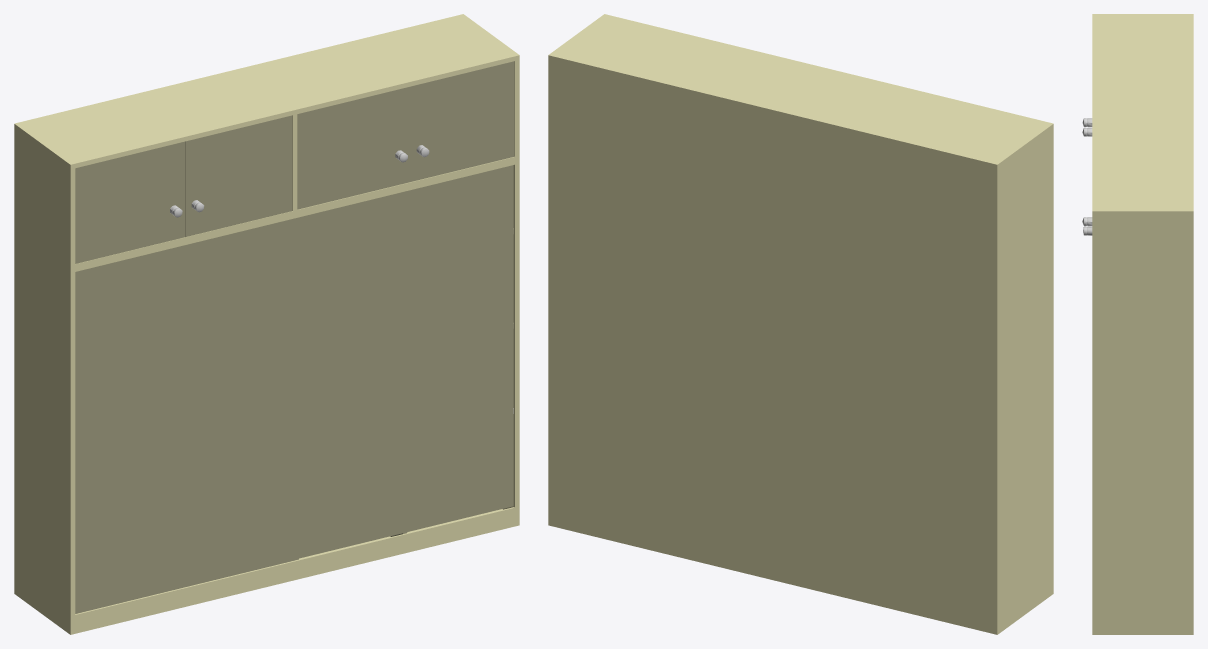
Rendered from wardorb_1.fbx.
The picture shows the model from 3 angles, left to right: view 1: azimuth 30°, elevation 25°; view 2: azimuth 150°, elevation 25°; view 3: azimuth 270°, elevation 25°; orthographic projection. The views are drawn at different scales.
Parts seen in each view (by area): view 1: BezierCurve.001; view 2: BezierCurve.001; view 3: BezierCurve.001.
Boxes of the visible parts, x1,y1,x2,y2 form: BezierCurve.001: [14, 14, 519, 634]; BezierCurve.001: [548, 14, 1053, 634]; BezierCurve.001: [1082, 14, 1193, 634].
Size of the model in its own units: 304 by 304 by 72.54.
